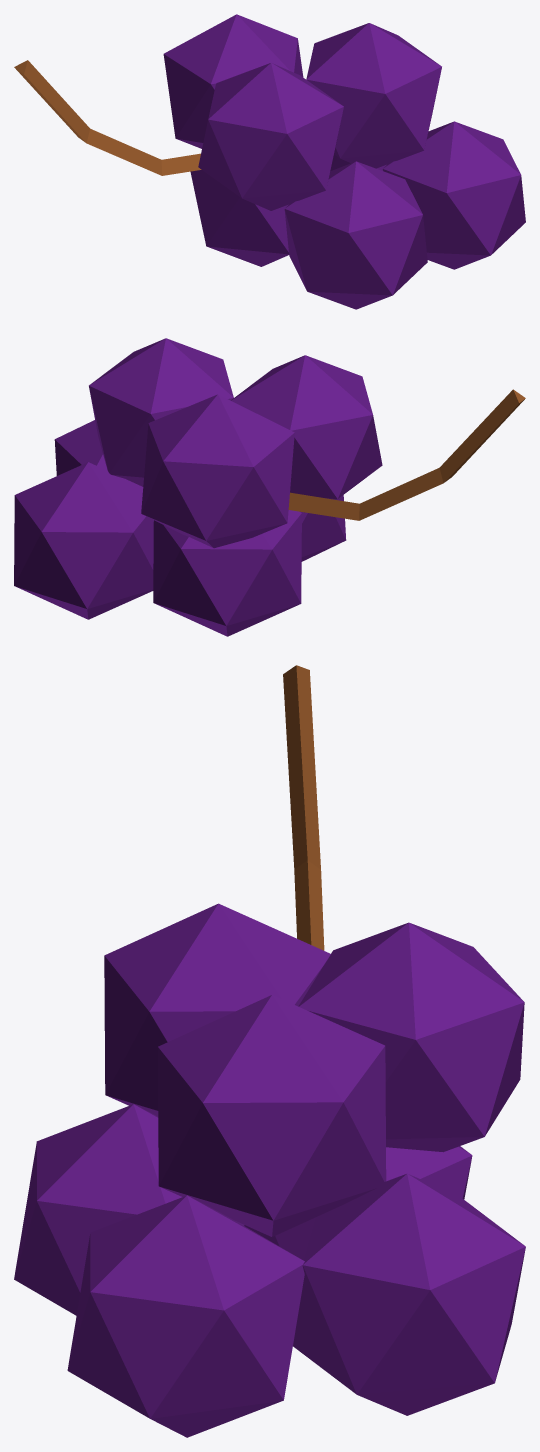
The model's file is grapes.fbx.
3 renders of one model, top to bottom at view 1: azimuth 30°, elevation 25°; view 2: azimuth 150°, elevation 25°; view 3: azimuth 270°, elevation 25°, orthographic. The views are drawn at different scales.
Visible parts, largest first — view 1: grapes; view 2: grapes; view 3: grapes.
Boxes of the visible parts, x1,y1,x2,y2 form: grapes: [14, 14, 525, 309]; grapes: [14, 338, 525, 636]; grapes: [14, 665, 525, 1437].
Size of the model in its own units: 65.32 by 37.9 by 38.28.
Materials: 1 (1 with a texture image).
